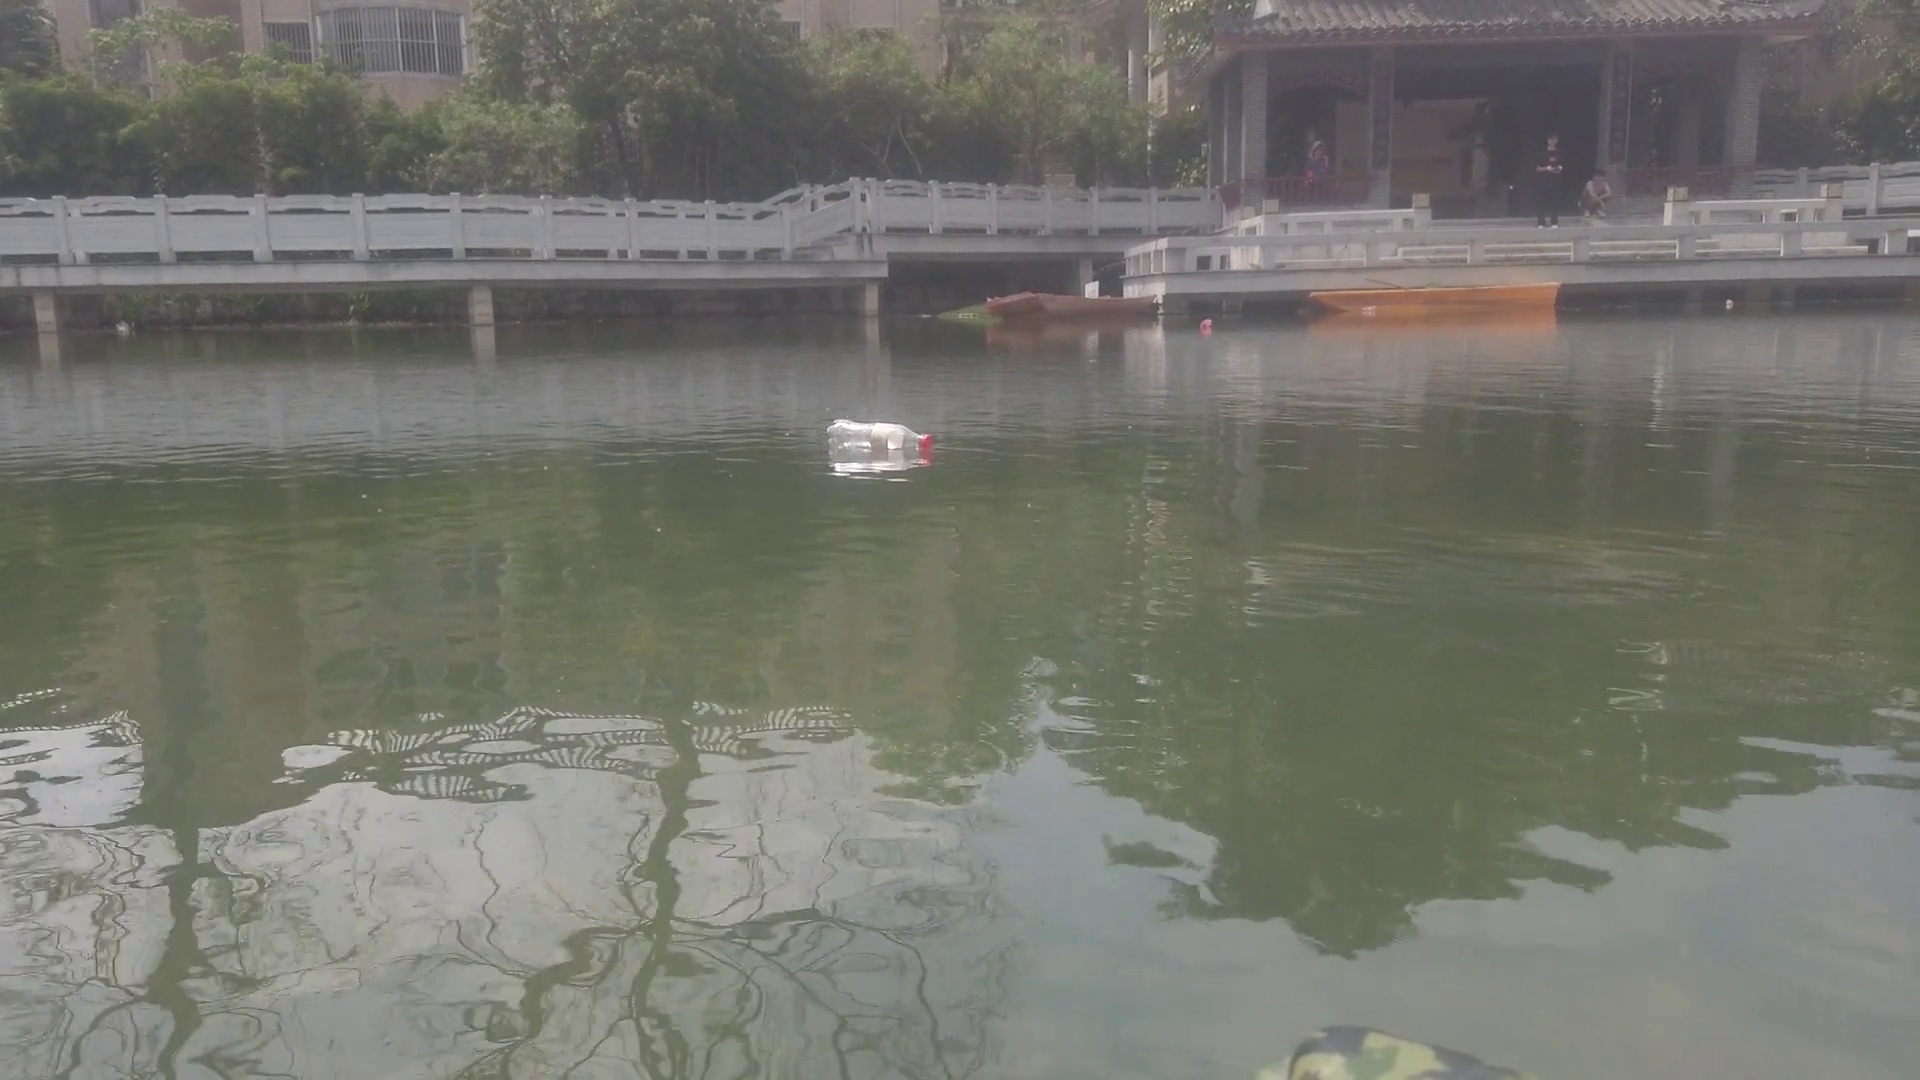bottle: (818, 415, 940, 452), (1358, 302, 1383, 316), (1196, 315, 1215, 330), (1724, 295, 1738, 313)
